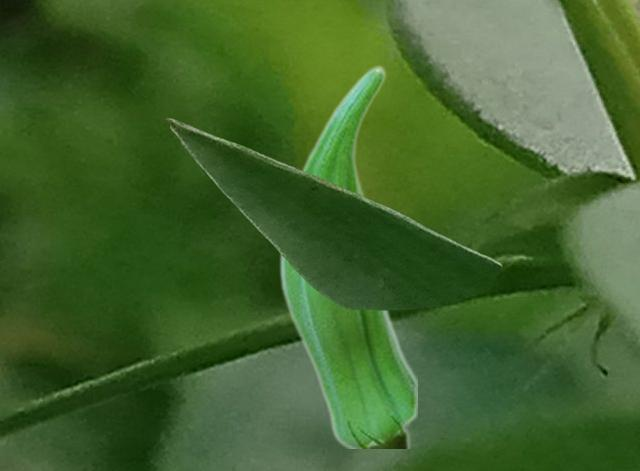okra: (278, 63, 416, 447)
